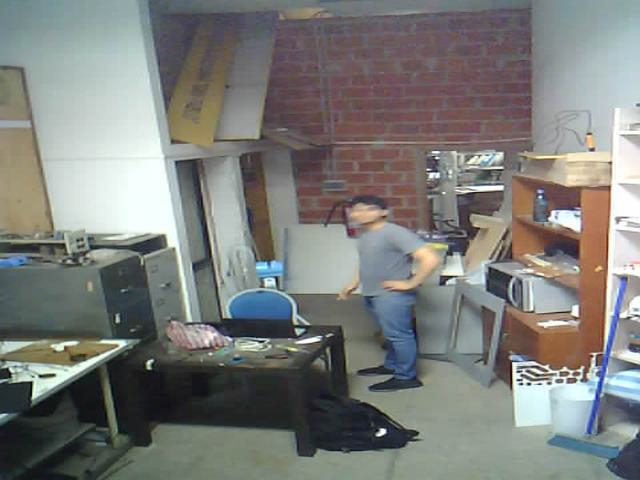person: (331, 185, 443, 400)
